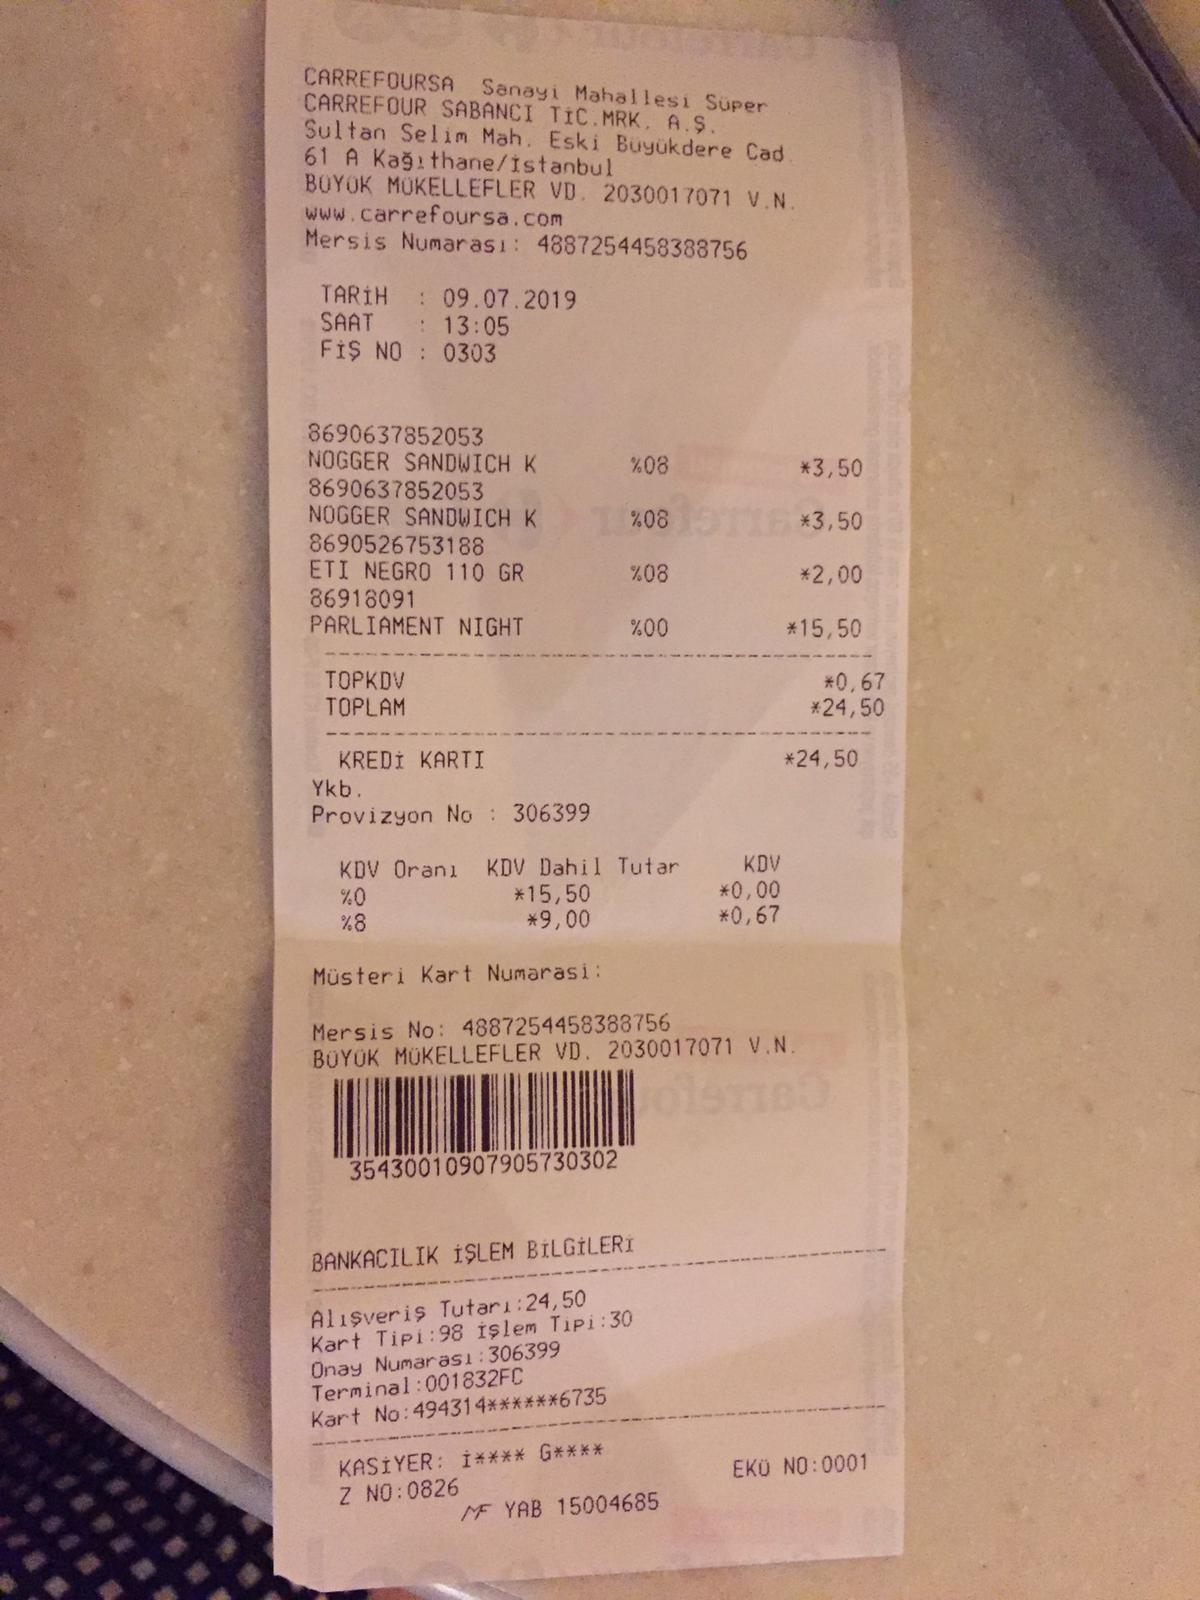total: (314, 691, 894, 727)
